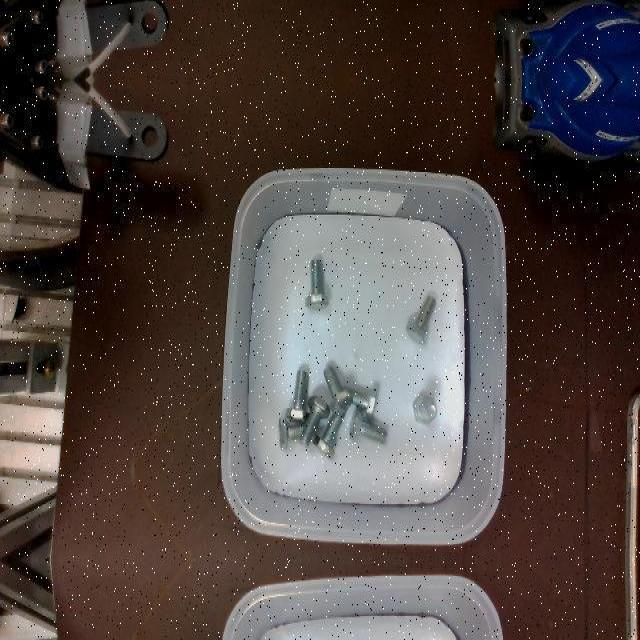screw: (298, 395, 330, 449), (406, 295, 437, 345), (323, 365, 353, 415), (349, 408, 387, 442), (285, 369, 309, 421), (305, 259, 328, 309), (414, 391, 437, 425)
